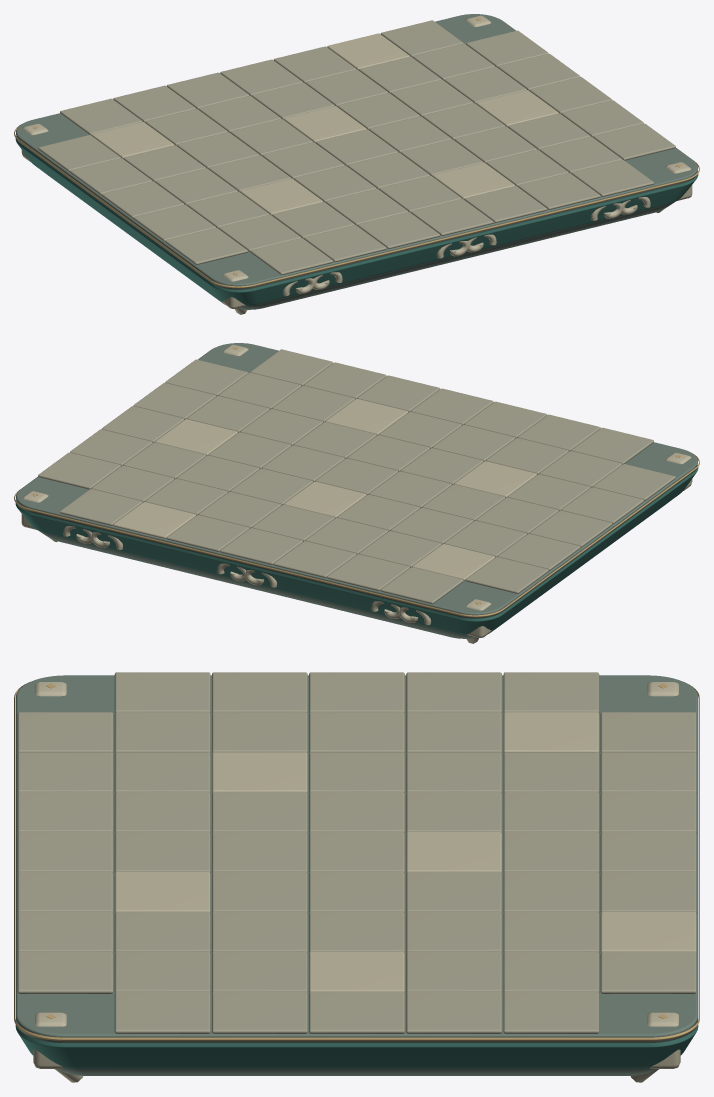
File: chapter_terrace_1_0_atelier.glb
3 renders of one model, top to bottom at view 1: azimuth 30°, elevation 25°; view 2: azimuth 150°, elevation 25°; view 3: azimuth 270°, elevation 25°, orthographic. The views are drawn at different scales.
Parts seen in each view (by area): view 1: chapter_terrace_1_0_atelier__TaggedPainted_chapter_terrace_1, chapter_terrace_1_0_atelier__Painted_chapter_terrace_1_0_ate (×2); view 2: chapter_terrace_1_0_atelier__TaggedPainted_chapter_terrace_1, chapter_terrace_1_0_atelier__Painted_chapter_terrace_1_0_ate (×2); view 3: chapter_terrace_1_0_atelier__TaggedPainted_chapter_terrace_1, chapter_terrace_1_0_atelier__Painted_chapter_terrace_1_0_ate (×2).
Boxes of the visible parts, x1,y1,x2,y2 form: chapter_terrace_1_0_atelier__TaggedPainted_chapter_terrace_1: (16, 14, 697, 314); chapter_terrace_1_0_atelier__Painted_chapter_terrace_1_0_ate (×2): (14, 18, 699, 305); chapter_terrace_1_0_atelier__TaggedPainted_chapter_terrace_1: (16, 343, 697, 643); chapter_terrace_1_0_atelier__Painted_chapter_terrace_1_0_ate (×2): (14, 347, 699, 634); chapter_terrace_1_0_atelier__TaggedPainted_chapter_terrace_1: (15, 672, 698, 1082); chapter_terrace_1_0_atelier__Painted_chapter_terrace_1_0_ate (×2): (14, 682, 699, 1068).
Size of the model in its own units: 20.17 by 1.96 by 16.14.
